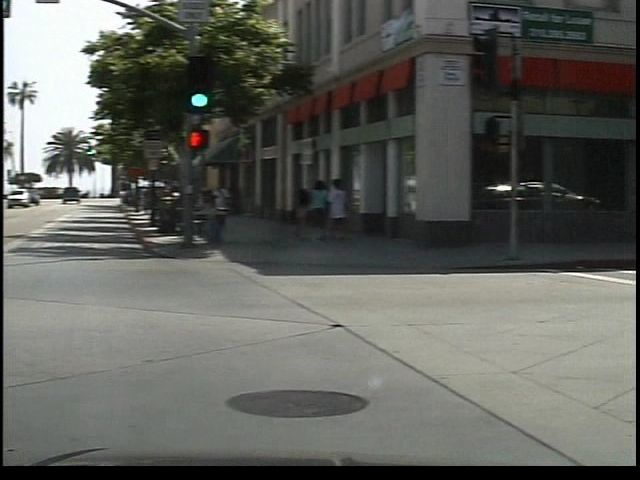person: (223, 173, 248, 238)
